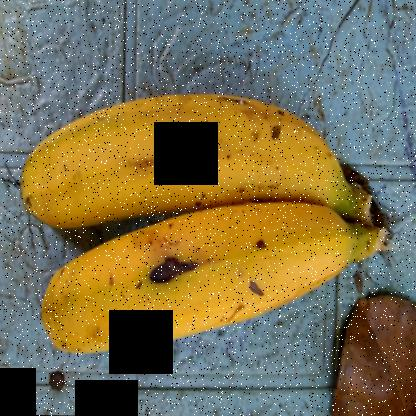freshripe: (18, 78, 349, 234)
ripe: (52, 194, 353, 410)
